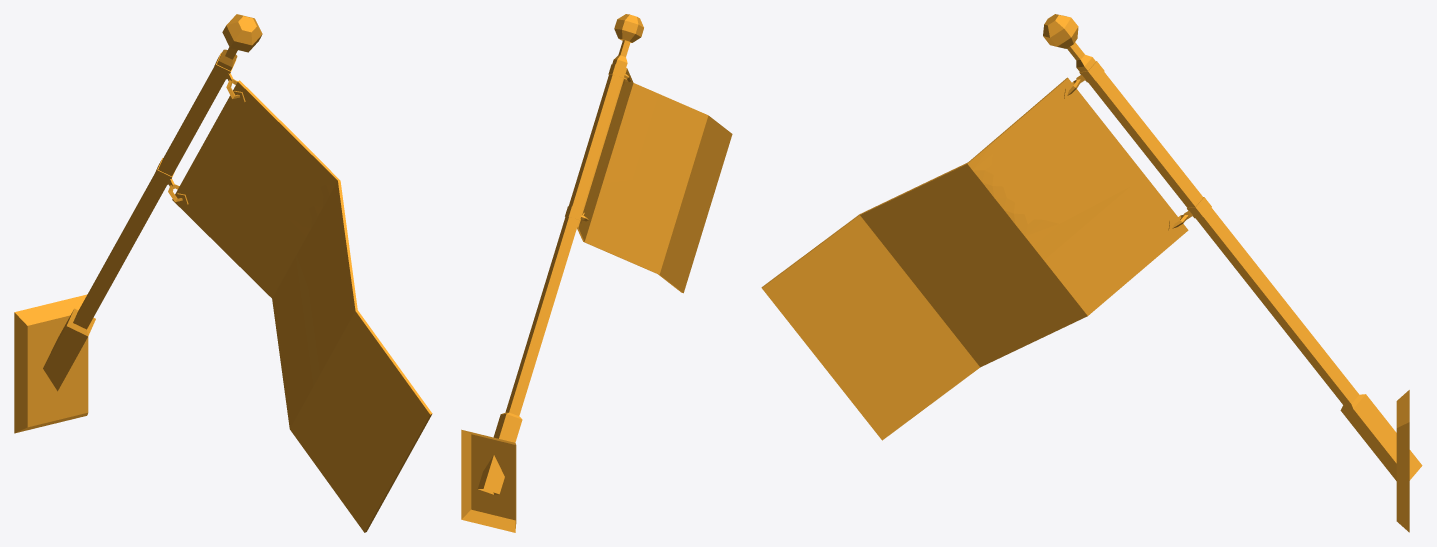
The model's file is SM_Flag_Wall_American_Wave.fbx.
3 renders of one model, left to right at view 1: azimuth 30°, elevation 25°; view 2: azimuth 150°, elevation 25°; view 3: azimuth 270°, elevation 25°, orthographic. The views are drawn at different scales.
Visible parts, largest first — view 1: flag-wall-american-wave; view 2: flag-wall-american-wave; view 3: flag-wall-american-wave.
Boxes of the visible parts, x1,y1,x2,y2 form: flag-wall-american-wave: [14, 14, 432, 532]; flag-wall-american-wave: [461, 14, 732, 532]; flag-wall-american-wave: [761, 14, 1422, 532].
Bounding box in the file's own units: 0.2483 × 1.54 × 1.83.
